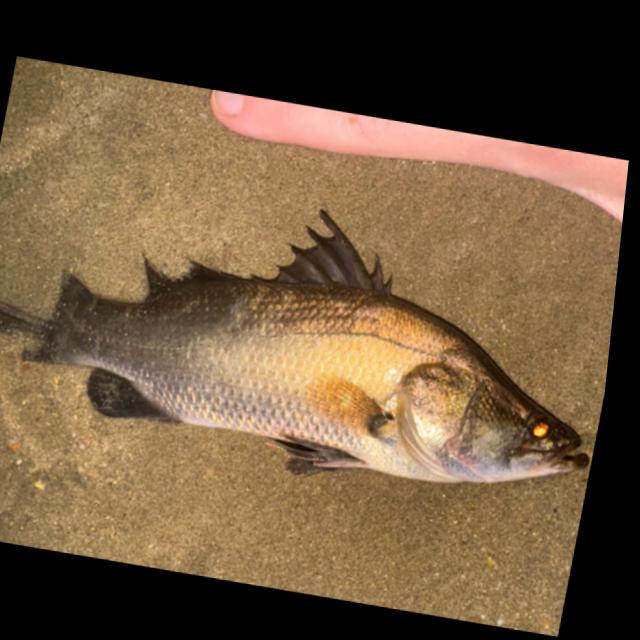Seabass: (0, 153, 624, 524)
